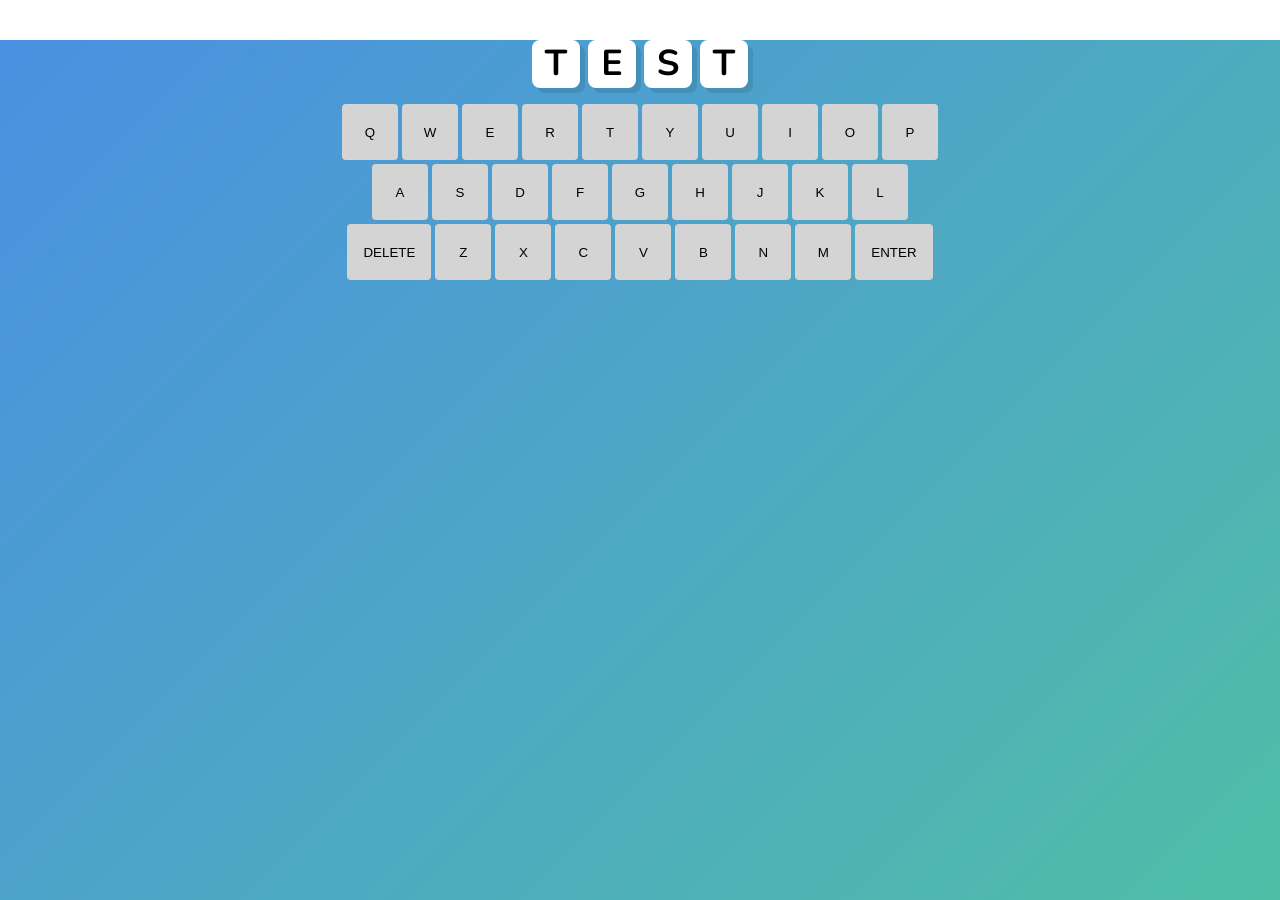
Test: GuessGame component › congrat modal › Should show congrat modal when finish the game with correct answer
Click the button "ENTER".
click(894, 252)  # box [855,224,932,280]
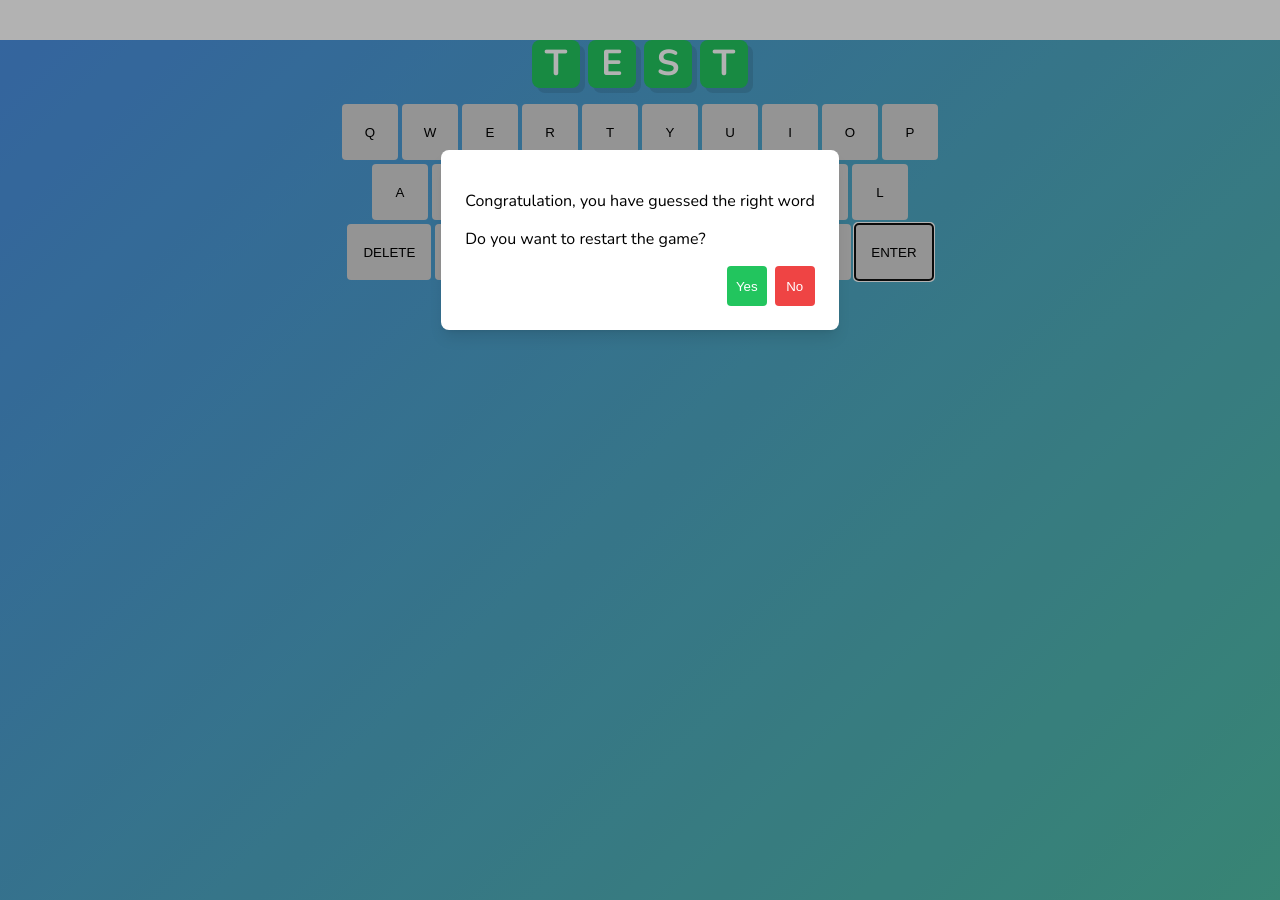
Expected: the text "Congratulation, you have guessed the right word" is shown, [465,190,815,212]
